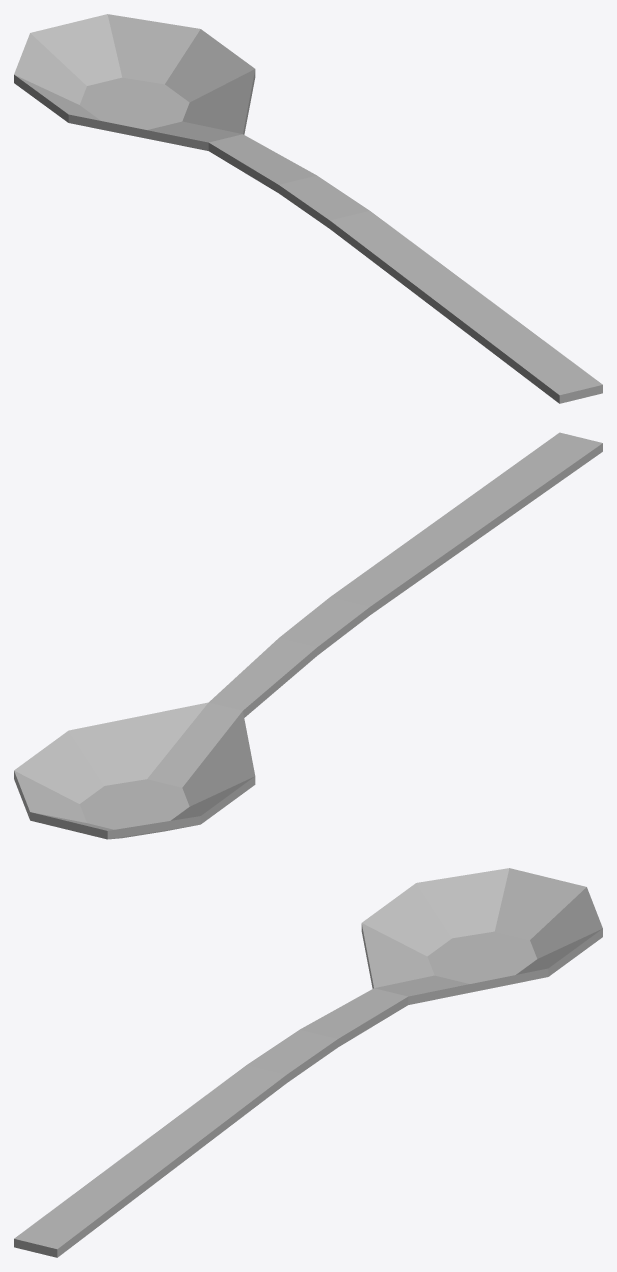
Rendered from Spoon_02.fbx.
3 renders of one model, top to bottom at view 1: azimuth 30°, elevation 25°; view 2: azimuth 150°, elevation 25°; view 3: azimuth 330°, elevation 25°, orthographic.
Visible parts, largest first — view 1: Spoon_02; view 2: Spoon_02; view 3: Spoon_02.
Boxes of the visible parts, x1,y1,x2,y2 form: Spoon_02: (14,14,602,403); Spoon_02: (14,432,602,839); Spoon_02: (14,868,602,1257).
Bounding box in the file's own units: 4.27 × 1.14 × 20.31.
